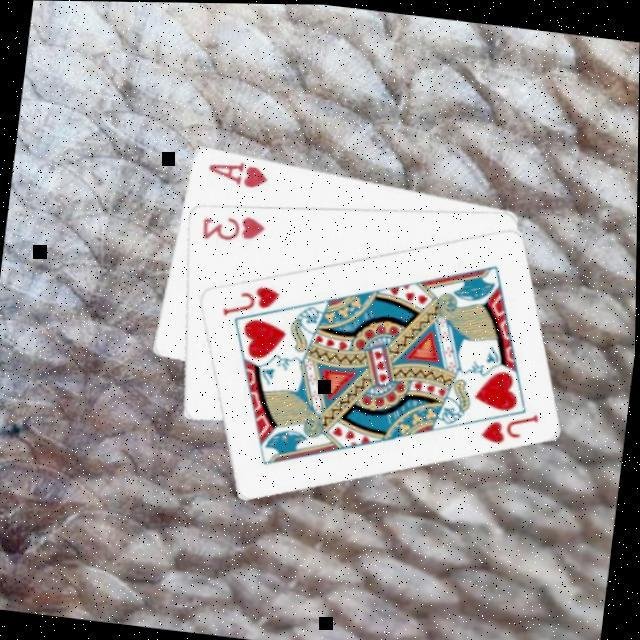3H: (199, 204, 270, 247)
AH: (204, 152, 274, 190)
JH: (218, 274, 285, 322), (477, 400, 544, 448)
